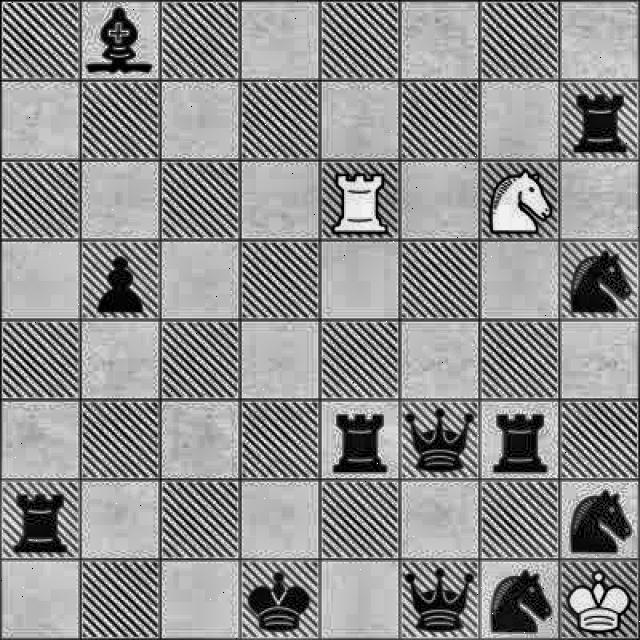Black Knight: (486, 568, 559, 640), (566, 486, 634, 560), (568, 245, 636, 319)
black bishop: (80, 6, 156, 80)
black king: (243, 562, 316, 640)
black pawn: (88, 252, 157, 316)
black queen: (400, 406, 474, 476), (406, 563, 474, 639)
black rook: (566, 84, 636, 160), (492, 404, 557, 476), (8, 486, 72, 558), (327, 406, 391, 476)
white king: (568, 566, 636, 640)
white rook: (322, 169, 394, 239)
whiteknight: (485, 164, 559, 238)
